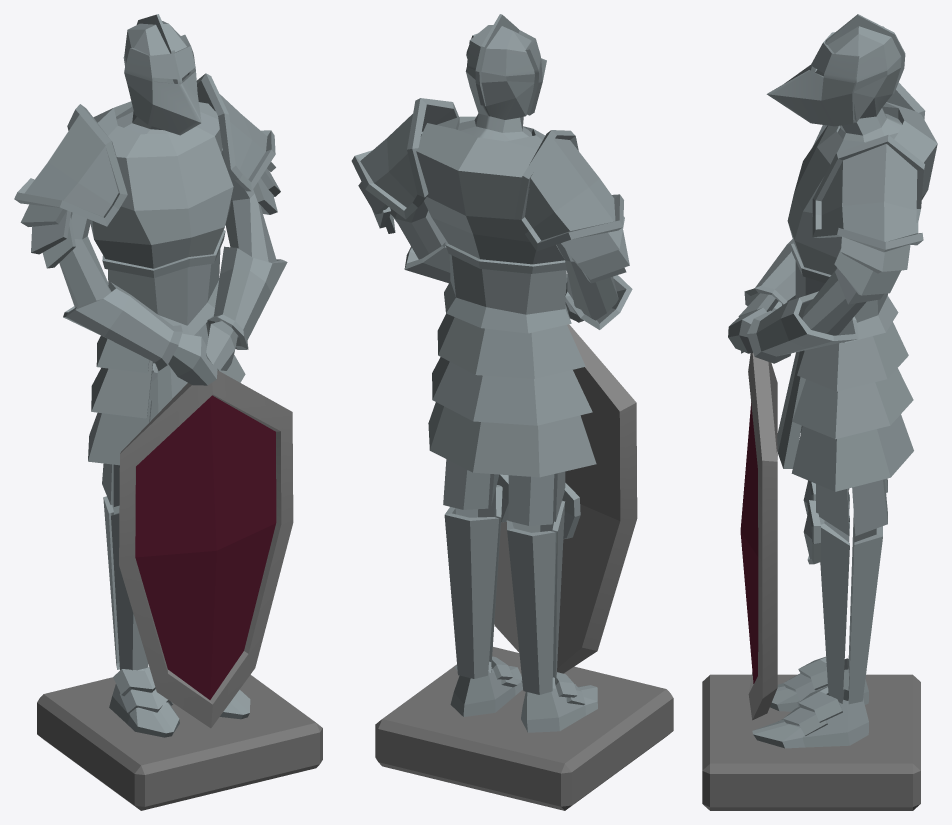
Rendered from Knight_Shield_Necromancer_Helmet2 Texture.fbx.
The picture shows the model from 3 angles, left to right: view 1: azimuth 30°, elevation 25°; view 2: azimuth 150°, elevation 25°; view 3: azimuth 270°, elevation 25°; orthographic projection. The views are drawn at different scales.
Parts seen in each view (by area): view 1: Shield; view 2: Shield; view 3: Shield.
Boxes of the visible parts, <box> form: Shield: <box>14,14,322,810</box>; Shield: <box>351,14,673,810</box>; Shield: <box>702,14,937,810</box>.
Bounding box in the file's own units: 196 × 519 × 147.
